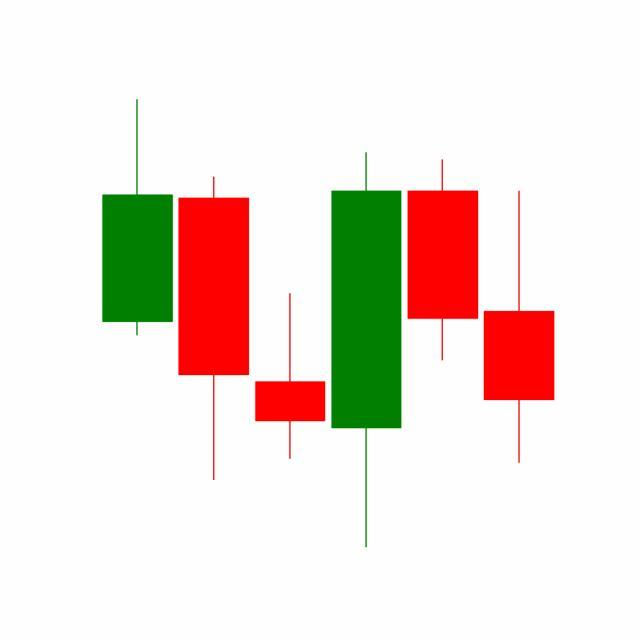Hikkake Pattern: (175, 148, 555, 549)
